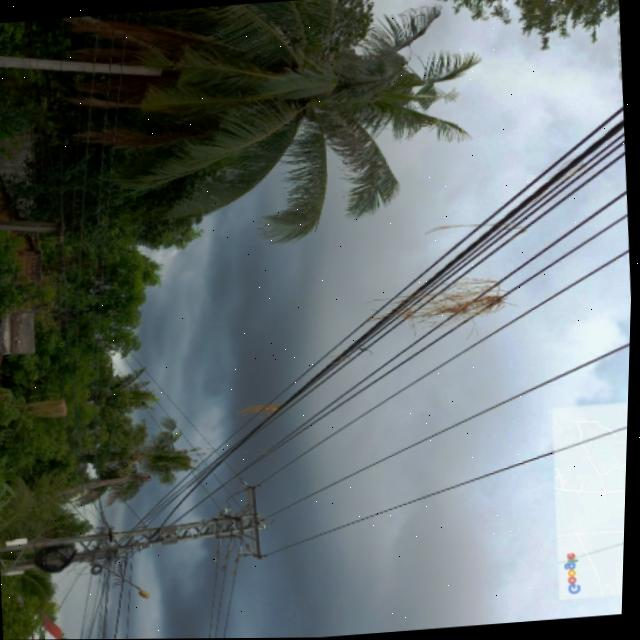obstruction: (379, 276, 506, 322), (241, 402, 289, 414)
poles: (16, 492, 264, 571)
wires: (140, 104, 626, 527), (259, 179, 632, 557), (49, 555, 139, 639), (208, 541, 244, 639)
